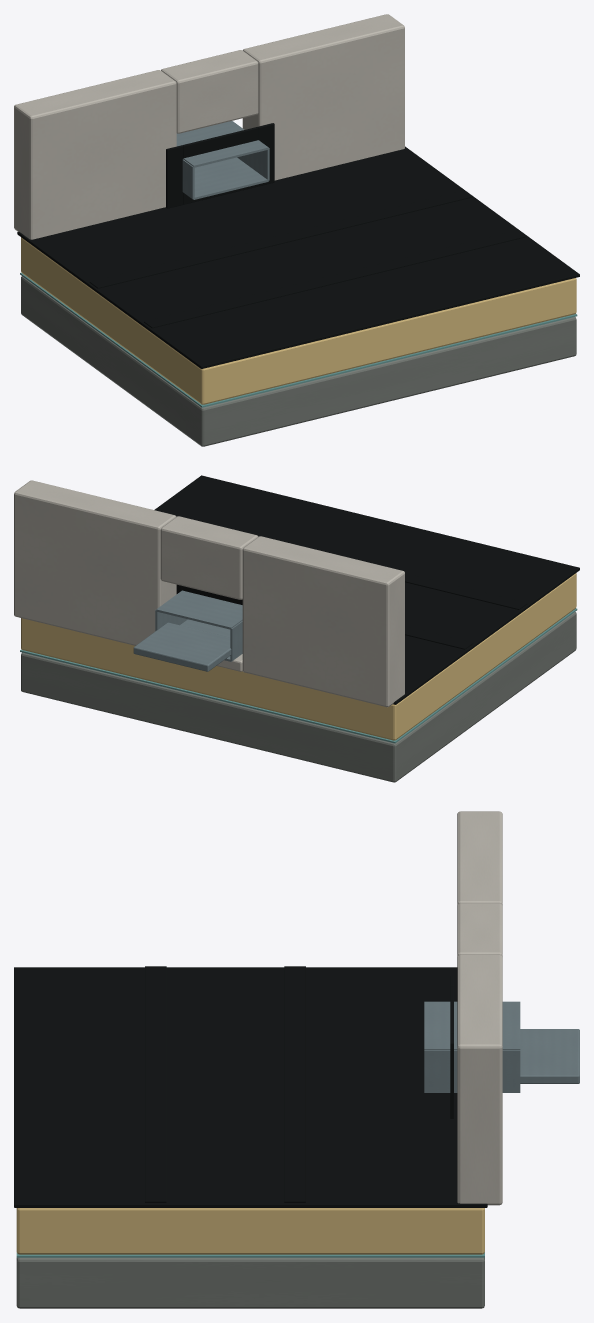
The model's file is modell.glb.
The picture shows the model from 3 angles, top to bottom: view 1: azimuth 30°, elevation 25°; view 2: azimuth 150°, elevation 25°; view 3: azimuth 270°, elevation 25°; orthographic projection. The views are drawn at different scales.
Parts seen in each view (by area): view 1: f04-abdichtung_deckung, f04-untergrund_, f04-untergrund_tragwerk, f04-daemmung_daemmung, f04-naht_deckung, f04-notablauf_, f04-luftdichtheit_luftdichtheit; view 2: f04-untergrund_, f04-abdichtung_deckung, f04-untergrund_tragwerk, f04-daemmung_daemmung, f04-notablauf_, f04-auslauf_, f04-luftdichtheit_luftdichtheit, f04-naht_deckung; view 3: f04-abdichtung_deckung, f04-untergrund_tragwerk, f04-daemmung_daemmung, f04-untergrund_, f04-naht_deckung, f04-notablauf_, f04-auslauf_, f04-luftdichtheit_luftdichtheit.
Part boxes in pixels (x1,y1,x2,y2): f04-abdichtung_deckung: (17, 123, 579, 368); f04-untergrund_: (14, 14, 404, 239); f04-untergrund_tragwerk: (21, 276, 576, 446); f04-daemmung_daemmung: (21, 237, 576, 404); f04-naht_deckung: (89, 190, 527, 328); f04-notablauf_: (176, 121, 269, 199); f04-luftdichtheit_luftdichtheit: (20, 272, 577, 407); f04-untergrund_: (14, 480, 404, 707); f04-abdichtung_deckung: (154, 475, 579, 704); f04-untergrund_tragwerk: (21, 612, 576, 782); f04-daemmung_daemmung: (21, 573, 576, 740); f04-notablauf_: (155, 590, 242, 661); f04-auslauf_: (133, 622, 231, 671); f04-luftdichtheit_luftdichtheit: (20, 608, 577, 743); f04-naht_deckung: (405, 573, 527, 649); f04-abdichtung_deckung: (14, 967, 487, 1207); f04-untergrund_tragwerk: (16, 1257, 484, 1308); f04-daemmung_daemmung: (16, 1208, 484, 1254); f04-untergrund_: (457, 811, 502, 1205); f04-naht_deckung: (145, 966, 305, 1202); f04-notablauf_: (424, 1001, 520, 1092); f04-auslauf_: (520, 1029, 579, 1083); f04-luftdichtheit_luftdichtheit: (16, 1252, 484, 1257).
Size of the model in its own units: 2.22 by 1.15 by 2.24.
6 materials, 3 textured.
